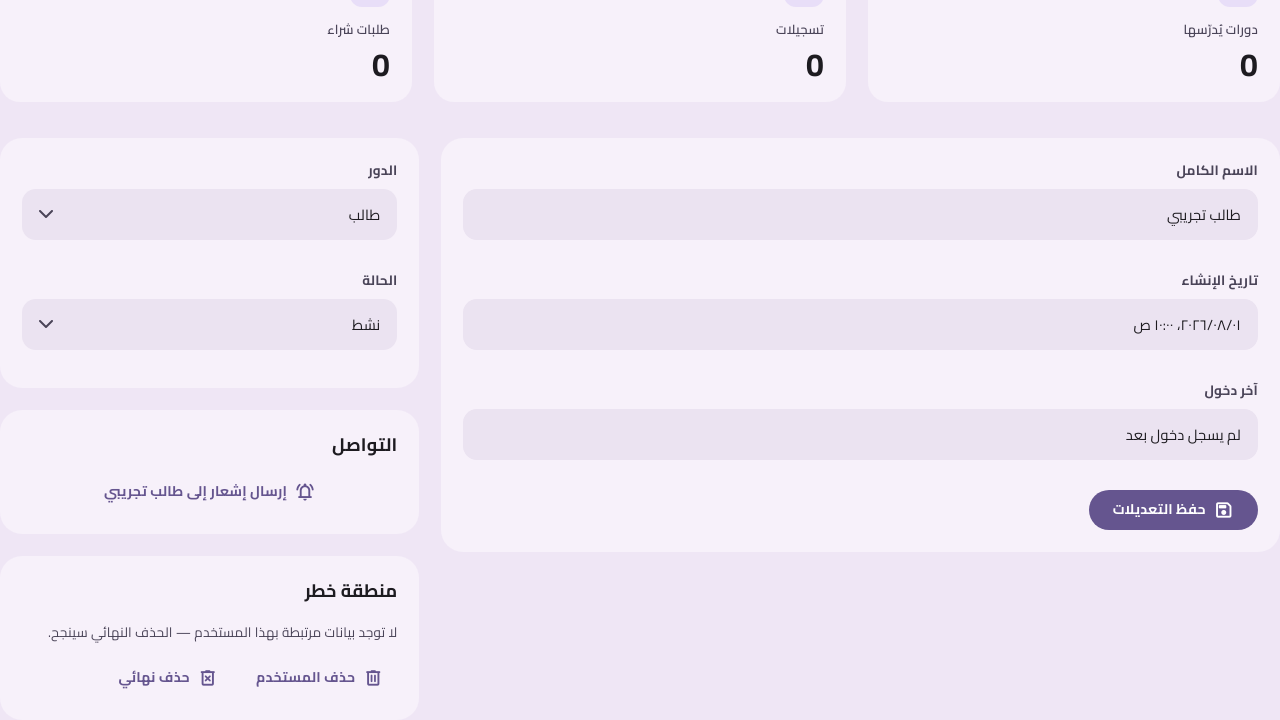
Test case: AdminUserDetailPage — Student Deletion Flow › opens custom confirmation modal when clicking delete student button
(page scrolled)
Click the button "حذف المستخدم".
click(320, 678)  # box x1=242 y1=658 x2=397 y2=698
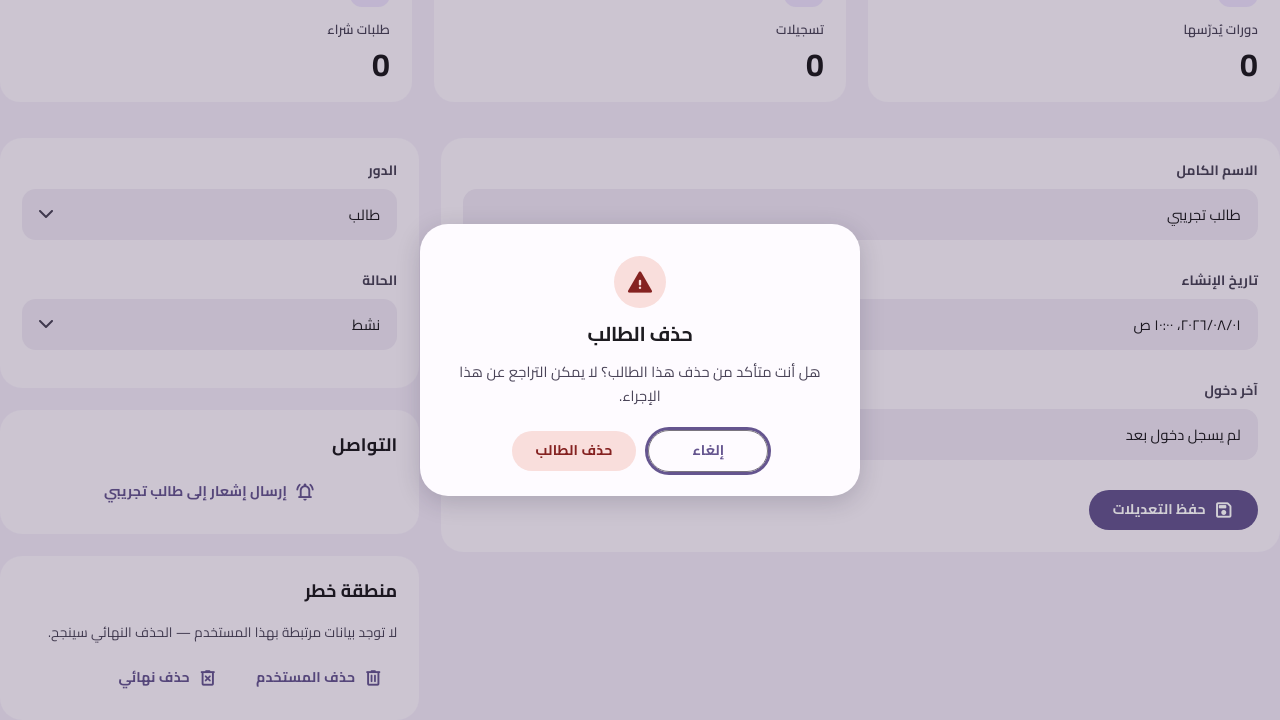
Expected: the heading "حذف الطالب" is shown, x1=588 y1=322 x2=692 y2=346
Expected: the text "هل أنت متأكد من حذف هذا الطالب؟ لا يمكن التراجع عن هذا الإجراء." is shown, x1=448 y1=360 x2=832 y2=408
Expected: the button "إلغاء" is shown, x1=648 y1=430 x2=768 y2=472
